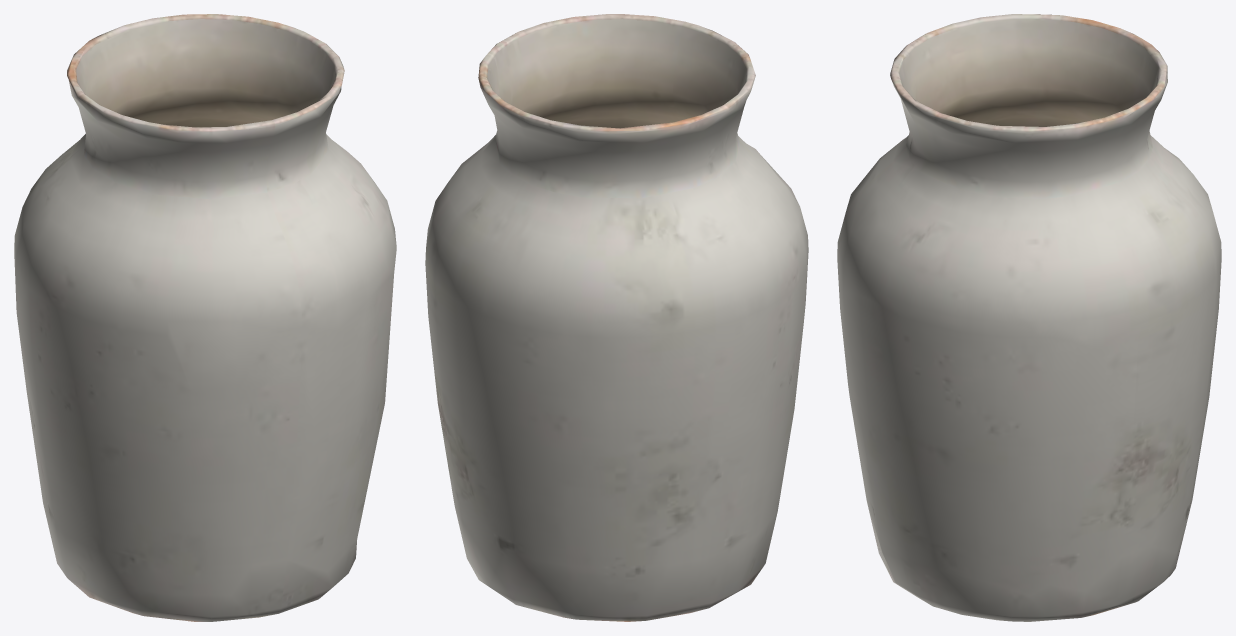
The model's file is ceramic_vase_02.glb.
3 renders of one model, left to right at view 1: azimuth 30°, elevation 25°; view 2: azimuth 150°, elevation 25°; view 3: azimuth 270°, elevation 25°, orthographic.
Parts seen in each view (by area): view 1: body; view 2: body; view 3: body.
Boxes of the visible parts, x1,y1,x2,y2 form: body: [14, 14, 396, 621]; body: [425, 14, 808, 621]; body: [837, 14, 1221, 621].
Size of the model in its own units: 0.2168 by 0.3091 by 0.2184.
Materials: 1 (1 with a texture image).
